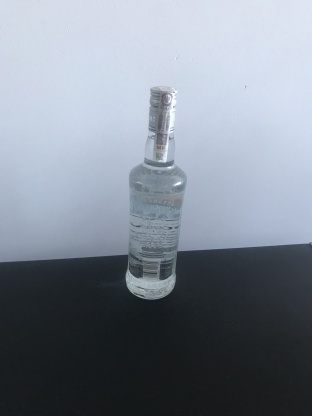nakretka: (146, 82, 179, 135)
